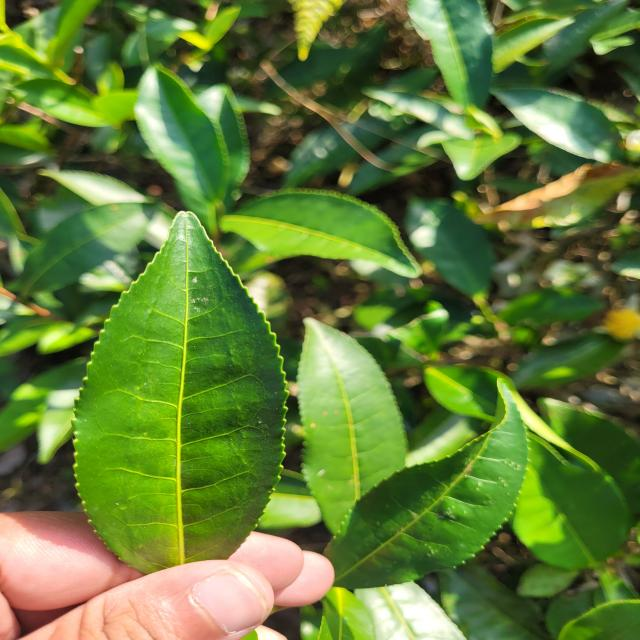Category D(7+ days, Not for Tea): (60, 192, 302, 580)
